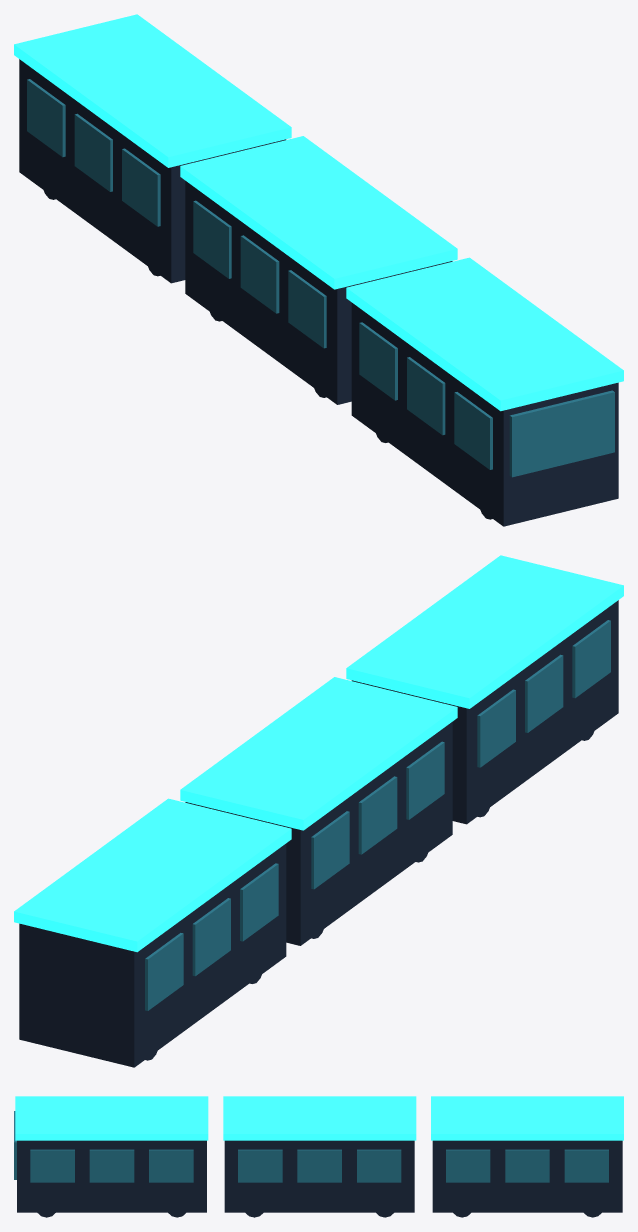
File: PROP_train_scene_20261005.glb
The picture shows the model from 3 angles, top to bottom: view 1: azimuth 30°, elevation 25°; view 2: azimuth 150°, elevation 25°; view 3: azimuth 270°, elevation 25°; orthographic projection. The views are drawn at different scales.
Visible parts, largest first — view 1: VEH_TrainRoof, VEH_TrainRoof.001, VEH_TrainRoof.002, VEH_TrainCar, VEH_TrainCar.001, VEH_TrainCar.002, VEH_TrainWindshield, VEH_TrainGlass.007, VEH_TrainGlass, VEH_TrainGlass.006, VEH_TrainGlass.008, VEH_TrainGlass.001 (+4 smaller); view 2: VEH_TrainCar.002, VEH_TrainRoof, VEH_TrainRoof.001, VEH_TrainRoof.002, VEH_TrainCar.001, VEH_TrainCar, VEH_TrainGlass.007, VEH_TrainGlass.006, VEH_TrainGlass.008, VEH_TrainGlass.014, VEH_TrainGlass, VEH_TrainGlass.001 (+3 smaller); view 3: VEH_TrainCar.002, VEH_TrainCar.001, VEH_TrainCar, VEH_TrainRoof, VEH_TrainRoof.001, VEH_TrainRoof.002, VEH_TrainGlass.004, VEH_TrainGlass.003, VEH_TrainGlass.005, VEH_TrainGlass.010, VEH_TrainGlass.011, VEH_TrainGlass.016 (+3 smaller).
Boxes of the visible parts, x1=… form: VEH_TrainRoof: x1=346, y1=257, x2=623, y2=411; VEH_TrainRoof.001: x1=180, y1=136, x2=457, y2=289; VEH_TrainRoof.002: x1=14, y1=14, x2=291, y2=167; VEH_TrainCar: x1=351, y1=302, x2=618, y2=526; VEH_TrainCar.001: x1=185, y1=181, x2=452, y2=404; VEH_TrainCar.002: x1=19, y1=59, x2=286, y2=283; VEH_TrainWindshield: x1=509, y1=390, x2=614, y2=477; VEH_TrainGlass.007: x1=240, y1=235, x2=279, y2=313; VEH_TrainGlass: x1=359, y1=322, x2=397, y2=400; VEH_TrainGlass.006: x1=193, y1=200, x2=231, y2=278; VEH_TrainGlass.008: x1=288, y1=270, x2=326, y2=348; VEH_TrainGlass.001: x1=407, y1=357, x2=445, y2=435; VEH_TrainCar.002: x1=19, y1=843, x2=286, y2=1067; VEH_TrainRoof: x1=346, y1=555, x2=623, y2=708; VEH_TrainRoof.001: x1=180, y1=677, x2=457, y2=830; VEH_TrainRoof.002: x1=14, y1=798, x2=291, y2=952; VEH_TrainCar.001: x1=185, y1=722, x2=452, y2=945; VEH_TrainCar: x1=351, y1=600, x2=618, y2=824; VEH_TrainGlass.007: x1=358, y1=776, x2=397, y2=854; VEH_TrainGlass.006: x1=311, y1=811, x2=349, y2=889; VEH_TrainGlass.008: x1=406, y1=741, x2=444, y2=819; VEH_TrainGlass.014: x1=240, y1=863, x2=278, y2=941; VEH_TrainGlass: x1=477, y1=689, x2=515, y2=767; VEH_TrainGlass.001: x1=525, y1=654, x2=563, y2=732; VEH_TrainCar.002: x1=432, y1=1140, x2=622, y2=1212; VEH_TrainCar.001: x1=224, y1=1140, x2=414, y2=1212; VEH_TrainCar: x1=17, y1=1140, x2=206, y2=1212; VEH_TrainRoof: x1=15, y1=1096, x2=208, y2=1140; VEH_TrainRoof.001: x1=223, y1=1096, x2=416, y2=1140; VEH_TrainRoof.002: x1=431, y1=1096, x2=623, y2=1140; VEH_TrainGlass.004: x1=89, y1=1149, x2=134, y2=1182; VEH_TrainGlass.003: x1=149, y1=1149, x2=193, y2=1182; VEH_TrainGlass.005: x1=30, y1=1149, x2=74, y2=1182; VEH_TrainGlass.010: x1=297, y1=1149, x2=341, y2=1182; VEH_TrainGlass.011: x1=238, y1=1149, x2=282, y2=1182; VEH_TrainGlass.016: x1=505, y1=1149, x2=549, y2=1182.
Size of the model in its own units: 3 by 3.22 by 20.55.
